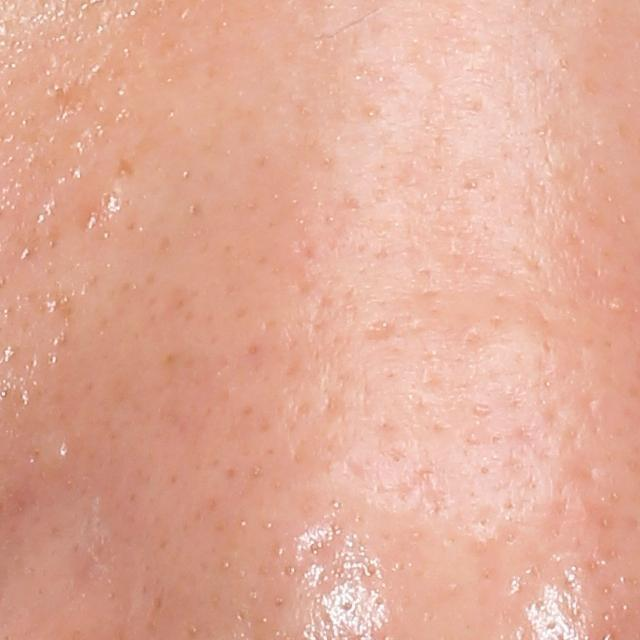atrophic_scar: (362, 321, 395, 343)
